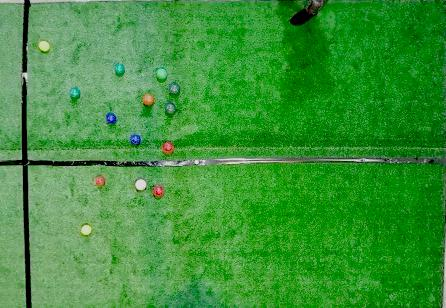blue: (105, 113, 117, 125), (131, 134, 141, 145)
green: (169, 83, 180, 95), (156, 68, 167, 80), (165, 103, 176, 114), (114, 63, 125, 74), (70, 88, 80, 99)
red: (152, 186, 165, 198), (162, 142, 174, 154), (143, 94, 154, 106), (135, 179, 147, 190), (95, 176, 106, 186)
vline: (1, 1, 33, 307), (440, 1, 445, 307)
white: (194, 160, 199, 164)
yellow: (38, 41, 50, 52), (80, 225, 92, 235)
